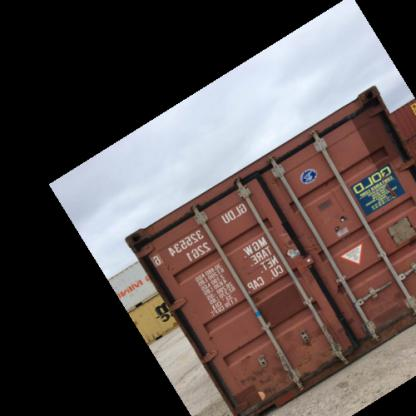Damage: (228, 354, 289, 390), (305, 310, 348, 360), (365, 284, 411, 329), (274, 214, 318, 258), (236, 266, 270, 308), (328, 204, 352, 238), (157, 256, 178, 275)
